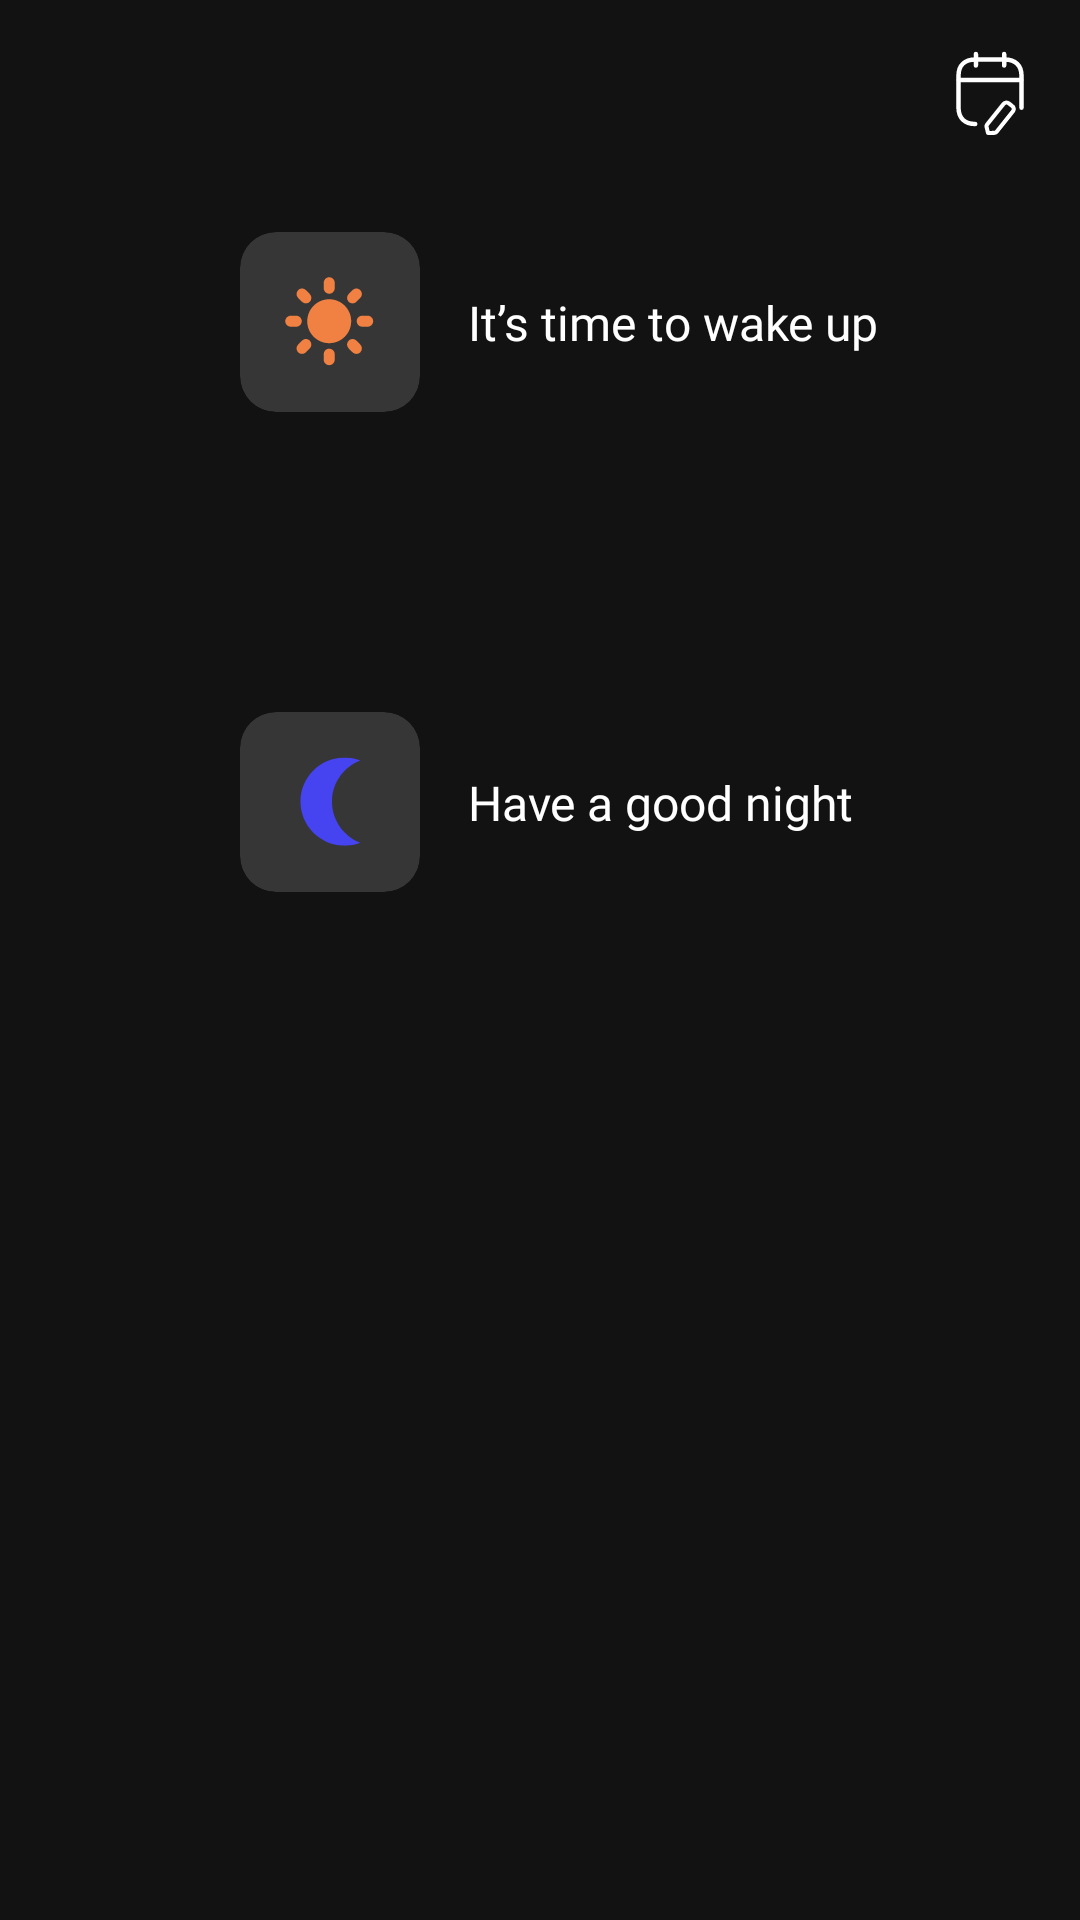

Named icons in this screenshot (1080 x 1920) and their bounding boxes, detection(x1, y1, x2, y2):
calendar: detection(956, 51, 1024, 135)
moon: detection(300, 757, 360, 846)
